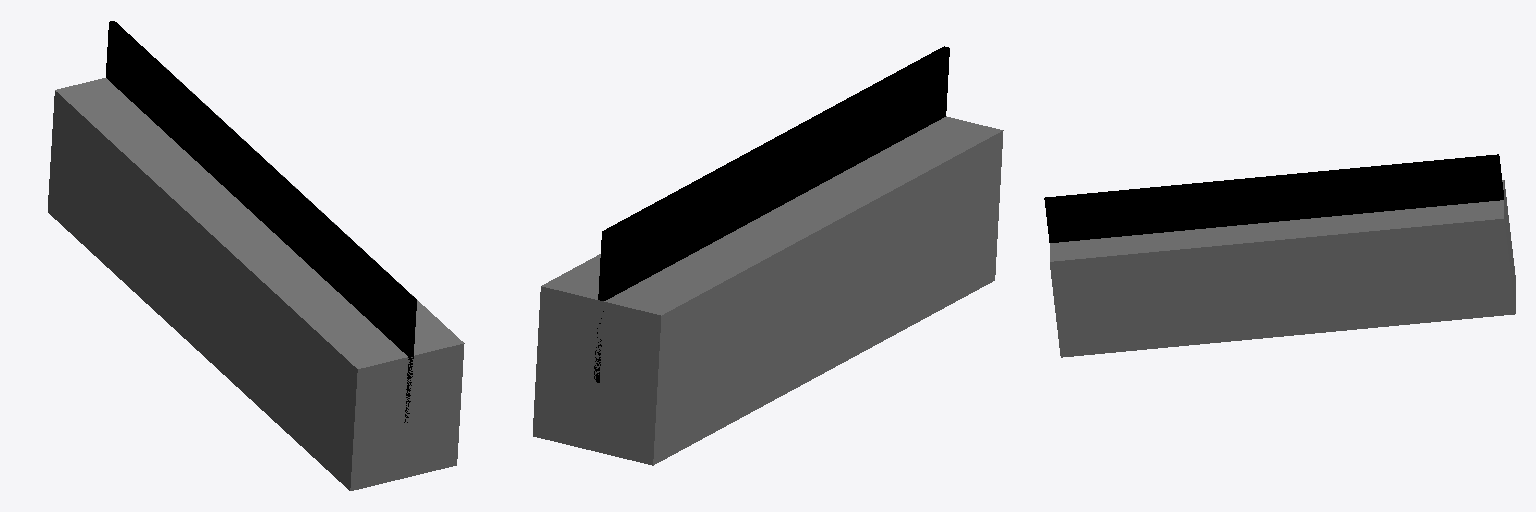
URDF robot description (ur5e_gripper_and_camera):
<?xml version="1.0" ?>
<!-- =================================================================================== -->
<!-- |    This document was autogenerated by xacro from /root/ws_studio/src/moveit_studio/moveit_studio_robot_config/picknik_ur_base_config/description/gripper_and_camera.xacro | -->
<!-- |    EDITING THIS FILE BY HAND IS NOT RECOMMENDED                                 | -->
<!-- =================================================================================== -->
<robot name="ur5e_gripper_and_camera">
  <material name="aluminum">
    <color rgba="0.5 0.5 0.5 1"/>
  </material>
  <material name="plastic">
    <color rgba="0.1 0.1 0.1 1"/>
  </material>
  <!-- Create base link -->
  <!-- We use a link name called grasp_link to perform quick tasks such as inspect surface -->
  <link name="grasp_link"/>
  <link name="tool0"/>
  <joint name="flange-tool0" type="fixed">
    <parent link="grasp_link"/>
    <child link="tool0"/>
    <origin rpy="0 0 -3.141592653589793" xyz="0.0 -0.016124 -0.18430"/>
  </joint>
  <link name="tool_changer_tool0"/>
  <joint name="tool_side_joint" type="fixed">
    <parent link="tool0"/>
    <child link="tool_changer_tool0"/>
    <origin rpy="0 0 0" xyz="0 0 0.0331"/>
  </joint>
  <joint name="realsense_camera_adapter_joint" type="fixed">
    <!-- The parent link must be read from the robot model it is attached to. -->
    <parent link="tool_changer_tool0"/>
    <child link="realsense_camera_adapter_link"/>
    <origin rpy="0 0 0" xyz="0 0 0"/>
  </joint>
  <link name="realsense_camera_adapter_link">
    <visual>
      <origin rpy="0 0 0" xyz="0 0 0"/>
      <geometry>
        <mesh filename="package://picknik_accessories/descriptions/brackets/ur_realsense_camera_adapter/picknik_ur5_realsense_camera_adapter_rev2.dae"/>
      </geometry>
    </visual>
    <collision>
      <origin rpy="0 0 0" xyz="0 0 0"/>
      <geometry>
        <mesh filename="package://picknik_accessories/descriptions/brackets/ur_realsense_camera_adapter/picknik_ur5_realsense_camera_adapter_rev2_collision.stl"/>
      </geometry>
    </collision>
  </link>
  <link name="realsense_camera_adapter_tool0"/>
  <joint name="realsense_camera_adapter_tool0_joint" type="fixed">
    <parent link="realsense_camera_adapter_link"/>
    <child link="realsense_camera_adapter_tool0"/>
    <origin rpy="0 0 0" xyz="0 0 0.007"/>
  </joint>
  <link name="d415_mount_link"/>
  <joint name="d415_mount_joint" type="fixed">
    <parent link="realsense_camera_adapter_link"/>
    <child link="d415_mount_link"/>
    <origin rpy="0 -1.4660765716752369 1.5707963267948966" xyz="0 -0.067 0.0171"/>
  </joint>
  <link name="l515_mount_link"/>
  <joint name="l515_mount_joint" type="fixed">
    <parent link="realsense_camera_adapter_link"/>
    <child link="l515_mount_link"/>
    <origin rpy="0 -1.4660765716752369 1.5707963267948966" xyz="0 -0.0406 0.0173"/>
  </joint>
  <!-- camera body, with origin at bottom screw mount -->
  <joint name="wrist_mounted_camera_joint" type="fixed">
    <origin rpy="0 0 0" xyz="0 0 0"/>
    <parent link="d415_mount_link"/>
    <child link="wrist_mounted_camera_bottom_screw_frame"/>
  </joint>
  <link name="wrist_mounted_camera_bottom_screw_frame"/>
  <joint name="wrist_mounted_camera_link_joint" type="fixed">
    <origin rpy="0 0 0" xyz="0 0.02 0.0115"/>
    <parent link="wrist_mounted_camera_bottom_screw_frame"/>
    <child link="wrist_mounted_camera_link"/>
  </joint>
  <link name="wrist_mounted_camera_link">
    <visual>
      <origin rpy="1.5707963267948966 0 1.5707963267948966" xyz="0.00987 -0.02 0"/>
      <geometry>
        <box size="0.02005 0.099 0.023" />
      </geometry>
      <material name="rs_aluminum">
        <color rgba="0.5 0.5 0.5 1.0" />
      </material>
    </visual>
    <visual>
      <origin rpy="1.5707963267948966 0 1.5707963267948966" xyz="0.020395 -0.02 0"/>
      <geometry>
        <box size="0.001 0.099 0.023" />
      </geometry>
      <material name="black">
        <color rgba="0.0 0.0 0.0 1.0" />
      </material>
    </visual>
    <collision>
      <origin rpy="1.5707963267948966 0 1.5707963267948966" xyz="0.020395 -0.02 0"/>
      <geometry>
        <box size="0.02005 0.099 0.023"/>
      </geometry>
    </collision>
    <inertial>
      <mass value="0.072"/>
      <!-- The following are not reliable values, and should not be used for modeling -->
      <origin xyz="0 0 0"/>
      <inertia ixx="0.003881243" ixy="0.0" ixz="0.0" iyy="0.000498940" iyz="0.0" izz="0.003879257"/>
    </inertial>
  </link>
  <!-- camera depth joints and links -->
  <joint name="wrist_mounted_camera_depth_joint" type="fixed">
    <origin rpy="0 0 0" xyz="0 0 0"/>
    <parent link="wrist_mounted_camera_link"/>
    <child link="wrist_mounted_camera_depth_frame"/>
  </joint>
  <link name="wrist_mounted_camera_depth_frame"/>
  <joint name="wrist_mounted_camera_depth_optical_joint" type="fixed">
    <origin rpy="-1.5707963267948966 0 -1.5707963267948966" xyz="0 0 0"/>
    <parent link="wrist_mounted_camera_depth_frame"/>
    <child link="wrist_mounted_camera_depth_optical_frame"/>
  </joint>
  <link name="wrist_mounted_camera_depth_optical_frame"/>
  <!-- camera left IR joints and links -->
  <joint name="wrist_mounted_camera_infra1_joint" type="fixed">
    <origin rpy="0 0 0" xyz="0 0.0 0"/>
    <parent link="wrist_mounted_camera_link"/>
    <child link="wrist_mounted_camera_infra1_frame"/>
  </joint>
  <link name="wrist_mounted_camera_infra1_frame"/>
  <joint name="wrist_mounted_camera_infra1_optical_joint" type="fixed">
    <origin rpy="-1.5707963267948966 0 -1.5707963267948966" xyz="0 0 0"/>
    <parent link="wrist_mounted_camera_infra1_frame"/>
    <child link="wrist_mounted_camera_infra1_optical_frame"/>
  </joint>
  <link name="wrist_mounted_camera_infra1_optical_frame"/>
  <!-- camera right IR joints and links -->
  <joint name="wrist_mounted_camera_infra2_joint" type="fixed">
    <origin rpy="0 0 0" xyz="0 -0.055 0"/>
    <parent link="wrist_mounted_camera_link"/>
    <child link="wrist_mounted_camera_infra2_frame"/>
  </joint>
  <link name="wrist_mounted_camera_infra2_frame"/>
  <joint name="wrist_mounted_camera_infra2_optical_joint" type="fixed">
    <origin rpy="-1.5707963267948966 0 -1.5707963267948966" xyz="0 0 0"/>
    <parent link="wrist_mounted_camera_infra2_frame"/>
    <child link="wrist_mounted_camera_infra2_optical_frame"/>
  </joint>
  <link name="wrist_mounted_camera_infra2_optical_frame"/>
  <!-- camera color joints and links -->
  <joint name="wrist_mounted_camera_color_joint" type="fixed">
    <origin rpy="0 0 0" xyz="0 0.015 0"/>
    <parent link="wrist_mounted_camera_link"/>
    <child link="wrist_mounted_camera_color_frame"/>
  </joint>
  <link name="wrist_mounted_camera_color_frame"/>
  <joint name="wrist_mounted_camera_color_optical_joint" type="fixed">
    <origin rpy="-1.5707963267948966 0 -1.5707963267948966" xyz="0 0 0"/>
    <parent link="wrist_mounted_camera_color_frame"/>
    <child link="wrist_mounted_camera_color_optical_frame"/>
  </joint>
  <link name="wrist_mounted_camera_color_optical_frame"/>
  <gazebo reference="wrist_mounted_camera_link">
    <sensor name="d415_camera" type="camera">
      <update_rate>6</update_rate>
      <camera name="d415_camera_rgb">
        <horizontal_fov>1.13446</horizontal_fov>
        <image>
          <width>640</width>
          <height>480</height>
          <format>R8G8B8</format>
        </image>
        <clip>
          <near>0.01</near>
          <far>300</far>
        </clip>
        <distortion>
          <k1>0.0</k1>
          <k2>0.0</k2>
          <k3>0.0</k3>
          <p1>0.0</p1>
          <p2>0.0</p2>
        </distortion>
      </camera>
      <plugin filename="libgazebo_ros_camera.so" name="d415_camera_controller">
        <ros>
          <remapping>d415_camera/image_raw:=wrist_mounted_camera/color/image_raw</remapping>
          <remapping>d415_camera/camera_info:=wrist_mounted_camera/color/camera_info</remapping>
        </ros>
        <camera_name>d415_camera</camera_name>
        <frame_name>wrist_mounted_camera_depth_optical_frame</frame_name>
        <hack_baseline>0.0</hack_baseline>
      </plugin>
    </sensor>
    <sensor name="d415_depth" type="depth">
      <update_rate>6</update_rate>
      <camera name="d415_camera_depth">
        <horizontal_fov>1.3997540600994522</horizontal_fov>
        <image>
          <format>B8G8R8</format>
          <width>640</width>
          <height>480</height>
        </image>
        <clip>
          <near>0.05</near>
          <far>8.0</far>
        </clip>
        <distortion>
          <k1>0.0</k1>
          <k2>0.0</k2>
          <k3>0.0</k3>
          <p1>0.0</p1>
          <p2>0.0</p2>
        </distortion>
      </camera>
      <plugin filename="libgazebo_ros_camera.so" name="d415_depth_controller">
        <ros>
          <remapping>d415_depth/depth/image_raw:=wrist_mounted_camera/depth/image_rect_raw</remapping>
          <remapping>d415_depth/depth/camera_info:=wrist_mounted_camera/depth/camera_info</remapping>
          <remapping>d415_depth/points:=wrist_mounted_camera/depth/color/points</remapping>
          <remapping>d415_depth/camera_info:=wrist_mounted_camera/unused1</remapping>
          <remapping>d415_depth/image_raw:=wrist_mounted_camera/unused2</remapping>
        </ros>
        <camera_name>d415_depth</camera_name>
        <frame_name>wrist_mounted_camera_depth_optical_frame</frame_name>
        <hack_baseline>0.0</hack_baseline>
        <min_depth>0.15</min_depth>
        <max_depth>4.0</max_depth>
      </plugin>
    </sensor>
  </gazebo>
  <joint name="ur_to_robotiq_joint" type="fixed">
    <!-- The parent link must be read from the robot model it is attached to. -->
    <parent link="realsense_camera_adapter_tool0"/>
    <child link="ur_to_robotiq_link"/>
    <origin rpy="0 0 0" xyz="0 0 0"/>
  </joint>
  <link name="ur_to_robotiq_link">
    <visual>
      <origin rpy="0 0 0" xyz="0 0 0"/>
      <geometry>
        <mesh filename="package://robotiq_description/meshes/visual/2f_85/ur_to_robotiq_adapter.dae"/>
      </geometry>
    </visual>
    <collision>
      <origin rpy="0 0 0" xyz="0 0 0"/>
      <geometry>
        <mesh filename="package://robotiq_description/meshes/collision/2f_85/ur_to_robotiq_adapter.stl"/>
      </geometry>
    </collision>
    <inertial>
      <mass value="0.01"/>
      <origin xyz="0 0 0"/>
      <inertia ixx="0.000044" ixy="0.0" ixz="0.0" iyy="0.000027" iyz="0.0" izz="0.000027"/>
    </inertial>
  </link>
  <joint name="gripper_side_joint" type="fixed">
    <parent link="ur_to_robotiq_link"/>
    <child link="gripper_mount_link"/>
    <!-- <origin xyz="0 0 0.011" rpy="0 ${-pi/2} ${pi/2}"/> -->
    <origin rpy="0 0 0" xyz="0 0 0.011"/>
  </joint>
  <link name="gripper_mount_link"/>
  <link name="robotiq_85_base_link">
    <visual>
      <geometry>
        <mesh filename="package://robotiq_description/meshes/visual/2f_85/robotiq_base.dae"/>
      </geometry>
    </visual>
    <collision>
      <geometry>
        <mesh filename="package://robotiq_description/meshes/collision/2f_85/robotiq_base.stl"/>
      </geometry>
    </collision>
    <inertial>
      <origin rpy="0 0 0" xyz="0.0 2.274e-05 0.03232288"/>
      <mass value="6.6320197e-01"/>
      <inertia ixx="5.1617816e-04" ixy="2.936e-8" ixz="0.0" iyy="5.8802208e-04" iyz="-3.2296e-7" izz="3.9462776e-04"/>
    </inertial>
  </link>
  <link name="robotiq_85_left_knuckle_link">
    <visual>
      <geometry>
        <mesh filename="package://robotiq_description/meshes/visual/2f_85/left_knuckle.dae"/>
      </geometry>
    </visual>
    <collision>
      <geometry>
        <mesh filename="package://robotiq_description/meshes/collision/2f_85/left_knuckle.stl"/>
      </geometry>
    </collision>
    <inertial>
      <origin rpy="0 0 0" xyz="0.01213197 0.0002 -0.00058647"/>
      <mass value="1.384773208e-02"/>
      <inertia ixx="3.5232e-7" ixy="0.0" ixz="1.1744e-7" iyy="2.31944e-6" iyz="0" izz="2.23136e-6"/>
    </inertial>
  </link>
  <link name="robotiq_85_right_knuckle_link">
    <visual>
      <geometry>
        <mesh filename="package://robotiq_description/meshes/visual/2f_85/right_knuckle.dae"/>
      </geometry>
    </visual>
    <collision>
      <geometry>
        <mesh filename="package://robotiq_description/meshes/collision/2f_85/right_knuckle.stl"/>
      </geometry>
    </collision>
    <inertial>
      <origin rpy="0 0 0" xyz="-0.01213197 0.0002 -0.00058647"/>
      <mass value="1.384773208e-02"/>
      <inertia ixx="3.5232e-7" ixy="0.0" ixz="-1.1744e-7" iyy="2.31944e-6" iyz="0.0" izz="2.23136e-6"/>
    </inertial>
  </link>
  <link name="robotiq_85_left_finger_link">
    <visual>
      <geometry>
        <mesh filename="package://robotiq_description/meshes/visual/2f_85/left_finger.dae"/>
      </geometry>
    </visual>
    <collision>
      <geometry>
        <mesh filename="package://robotiq_description/meshes/collision/2f_85/left_finger.stl"/>
      </geometry>
    </collision>
    <inertial>
      <origin rpy="0 0 0" xyz="0.00346899 -0.00079447 0.01867121"/>
      <mass value="4.260376752e-02"/>
      <inertia ixx="1.385792000000000e-05" ixy="0.0" ixz="-2.17264e-06" iyy="1.183208e-05" iyz="0.0" izz="5.19672e-06"/>
    </inertial>
  </link>
  <link name="robotiq_85_right_finger_link">
    <visual>
      <geometry>
        <mesh filename="package://robotiq_description/meshes/visual/2f_85/right_finger.dae"/>
      </geometry>
    </visual>
    <collision>
      <geometry>
        <mesh filename="package://robotiq_description/meshes/collision/2f_85/right_finger.stl"/>
      </geometry>
    </collision>
    <inertial>
      <origin rpy="0 0 0" xyz="-0.00346899 -5.53e-06 0.01867121"/>
      <mass value="4.260376752000000e-02"/>
      <inertia ixx="1.385792e-05" ixy="0.0" ixz="2.17264e-06" iyy="1.183208e-05" iyz="0.0" izz="5.19672e-06"/>
    </inertial>
  </link>
  <link name="robotiq_85_left_inner_knuckle_link">
    <visual>
      <geometry>
        <mesh filename="package://robotiq_description/meshes/visual/2f_85/left_inner_knuckle.dae"/>
      </geometry>
    </visual>
    <collision>
      <geometry>
        <mesh filename="package://robotiq_description/meshes/collision/2f_85/left_inner_knuckle.stl"/>
      </geometry>
    </collision>
    <inertial>
      <origin rpy="0 0 0" xyz="0.01897699 0.00015001 0.02247101"/>
      <mass value="2.969376448e-02"/>
      <inertia ixx="9.57136e-06" ixy="0.0" ixz="-3.93424e-06" iyy="8.69056e-06" iyz="0.0" izz="8.19144e-06"/>
    </inertial>
  </link>
  <link name="robotiq_85_right_inner_knuckle_link">
    <visual>
      <geometry>
        <mesh filename="package://robotiq_description/meshes/visual/2f_85/right_inner_knuckle.dae"/>
      </geometry>
    </visual>
    <collision>
      <geometry>
        <mesh filename="package://robotiq_description/meshes/collision/2f_85/right_inner_knuckle.stl"/>
      </geometry>
    </collision>
    <inertial>
      <origin rpy="0 0 0" xyz="-0.01926824 5.001e-05 0.02222178"/>
      <mass value="2.969376448e-02"/>
      <inertia ixx="9.42456e-06" ixy="0.0" ixz="3.9636e-06" iyy="8.69056e-06" iyz="0.0" izz="8.33824e-06"/>
    </inertial>
  </link>
  <link name="robotiq_85_left_finger_tip_link">
    <visual>
      <geometry>
        <mesh filename="package://robotiq_description/meshes/visual/2f_85/left_finger_tip.dae"/>
      </geometry>
    </visual>
    <collision>
      <geometry>
        <mesh filename="package://robotiq_description/meshes/collision/2f_85/left_finger_tip.stl"/>
      </geometry>
    </collision>
    <inertial>
      <origin rpy="0 0 0" xyz="-0.01456706 -0.0008 0.01649701"/>
      <mass value="4.268588744e-02"/>
      <inertia ixx="1.048152e-05" ixy="0.0" ixz="3.5232e-6" iyy="1.197888e-05" iyz="0.0" izz="4.22784e-06"/>
    </inertial>
  </link>
  <link name="robotiq_85_right_finger_tip_link">
    <visual>
      <geometry>
        <mesh filename="package://robotiq_description/meshes/visual/2f_85/right_finger_tip.dae"/>
      </geometry>
    </visual>
    <collision>
      <geometry>
        <mesh filename="package://robotiq_description/meshes/collision/2f_85/right_finger_tip.stl"/>
      </geometry>
    </collision>
    <inertial>
      <origin rpy="0 0 0" xyz="0.01456706 5e-05 0.01649701"/>
      <mass value="4.268588744e-02"/>
      <inertia ixx="1.048152e-05" ixy="0.0" ixz="-3.5232e-06" iyy="1.197888e-05" iyz="0.0" izz="4.22784e-06"/>
    </inertial>
  </link>
  <joint name="robotiq_85_base_joint" type="fixed">
    <parent link="gripper_mount_link"/>
    <child link="robotiq_85_base_link"/>
    <origin rpy="0 0 0" xyz="0 0 0"/>
  </joint>
  <joint name="robotiq_85_left_knuckle_joint" type="revolute">
    <parent link="robotiq_85_base_link"/>
    <child link="robotiq_85_left_knuckle_link"/>
    <axis xyz="0 -1 0"/>
    <origin rpy="0 0 0" xyz="0.03060114 0.0 0.05490452"/>
    <limit effort="50" lower="0.0" upper="0.8" velocity="0.5"/>
  </joint>
  <joint name="robotiq_85_right_knuckle_joint" type="revolute">
    <parent link="robotiq_85_base_link"/>
    <child link="robotiq_85_right_knuckle_link"/>
    <axis xyz="0 -1 0"/>
    <origin rpy="0 0 0" xyz="-0.03060114 0.0 0.05490452"/>
    <limit effort="50" lower="-0.8" upper="0.0" velocity="0.5"/>
    <mimic joint="robotiq_85_left_knuckle_joint" multiplier="-1"/>
  </joint>
  <joint name="robotiq_85_left_finger_joint" type="fixed">
    <parent link="robotiq_85_left_knuckle_link"/>
    <child link="robotiq_85_left_finger_link"/>
    <origin rpy="0 0 0" xyz="0.03152616 0.0 -0.00376347"/>
  </joint>
  <joint name="robotiq_85_right_finger_joint" type="fixed">
    <parent link="robotiq_85_right_knuckle_link"/>
    <child link="robotiq_85_right_finger_link"/>
    <origin rpy="0 0 0" xyz="-0.03152616 0.0 -0.00376347"/>
  </joint>
  <joint name="robotiq_85_left_inner_knuckle_joint" type="continuous">
    <parent link="robotiq_85_base_link"/>
    <child link="robotiq_85_left_inner_knuckle_link"/>
    <axis xyz="0 -1 0"/>
    <origin rpy="0 0 0" xyz="0.0127 0.0 0.06142"/>
    <mimic joint="robotiq_85_left_knuckle_joint"/>
  </joint>
  <joint name="robotiq_85_right_inner_knuckle_joint" type="continuous">
    <parent link="robotiq_85_base_link"/>
    <child link="robotiq_85_right_inner_knuckle_link"/>
    <axis xyz="0 -1 0"/>
    <origin rpy="0 0 0" xyz="-0.0127 0.0 0.06142"/>
    <mimic joint="robotiq_85_left_knuckle_joint" multiplier="-1"/>
  </joint>
  <joint name="robotiq_85_left_finger_tip_joint" type="continuous">
    <parent link="robotiq_85_left_finger_link"/>
    <child link="robotiq_85_left_finger_tip_link"/>
    <axis xyz="0 -1 0"/>
    <origin rpy="0 0 0" xyz="0.00563134 0.0 0.04718515"/>
    <mimic joint="robotiq_85_left_knuckle_joint" multiplier="-1"/>
  </joint>
  <joint name="robotiq_85_right_finger_tip_joint" type="continuous">
    <parent link="robotiq_85_right_finger_link"/>
    <child link="robotiq_85_right_finger_tip_link"/>
    <axis xyz="0 -1 0"/>
    <origin rpy="0 0 0" xyz="-0.00563134 0.0 0.04718515"/>
    <mimic joint="robotiq_85_left_knuckle_joint"/>
  </joint>
</robot>

--- Facts derived from the render (not from the file) ---
The picture shows the robot from 3 angles, left to right: view 1: azimuth 30°, elevation 25°; view 2: azimuth 150°, elevation 25°; view 3: azimuth 270°, elevation 25°; orthographic projection.
Model ur5e_gripper_and_camera with 28 links and 27 joints (2 revolute, 4 continuous, 21 fixed), rooted at grasp_link, posed all joints at 0.
Visible links, largest first — view 1: wrist_mounted_camera_link; view 2: wrist_mounted_camera_link; view 3: wrist_mounted_camera_link.
Link boxes in pixels (left/top/right/bottom): wrist_mounted_camera_link: left=48, top=21, right=464, bottom=490; wrist_mounted_camera_link: left=533, top=46, right=1003, bottom=465; wrist_mounted_camera_link: left=1044, top=154, right=1515, bottom=357.
Bounding box of the posed robot: 0.0201 × 0.102 × 0.0437 m (x, y, z).
0 mesh visuals loaded from 11 distinct referenced files (none loaded); not drawn: 1 (reference not matched to a file when rendering), 10 (file found but could not be loaded).